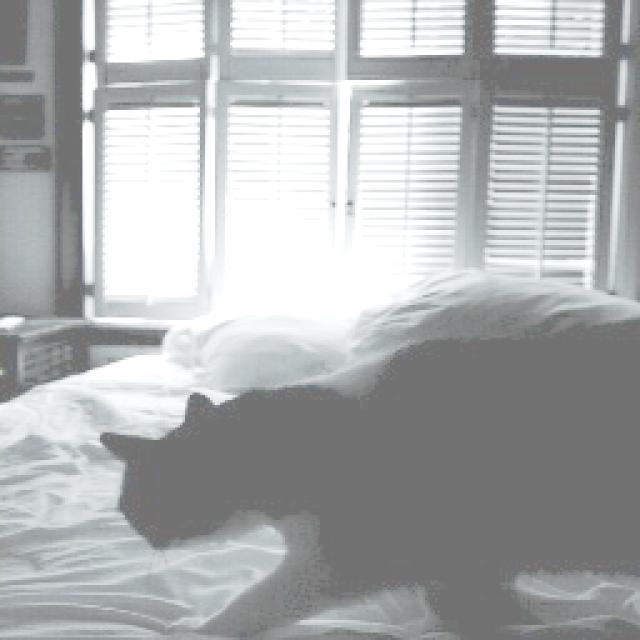cat: (97, 337, 640, 640)
